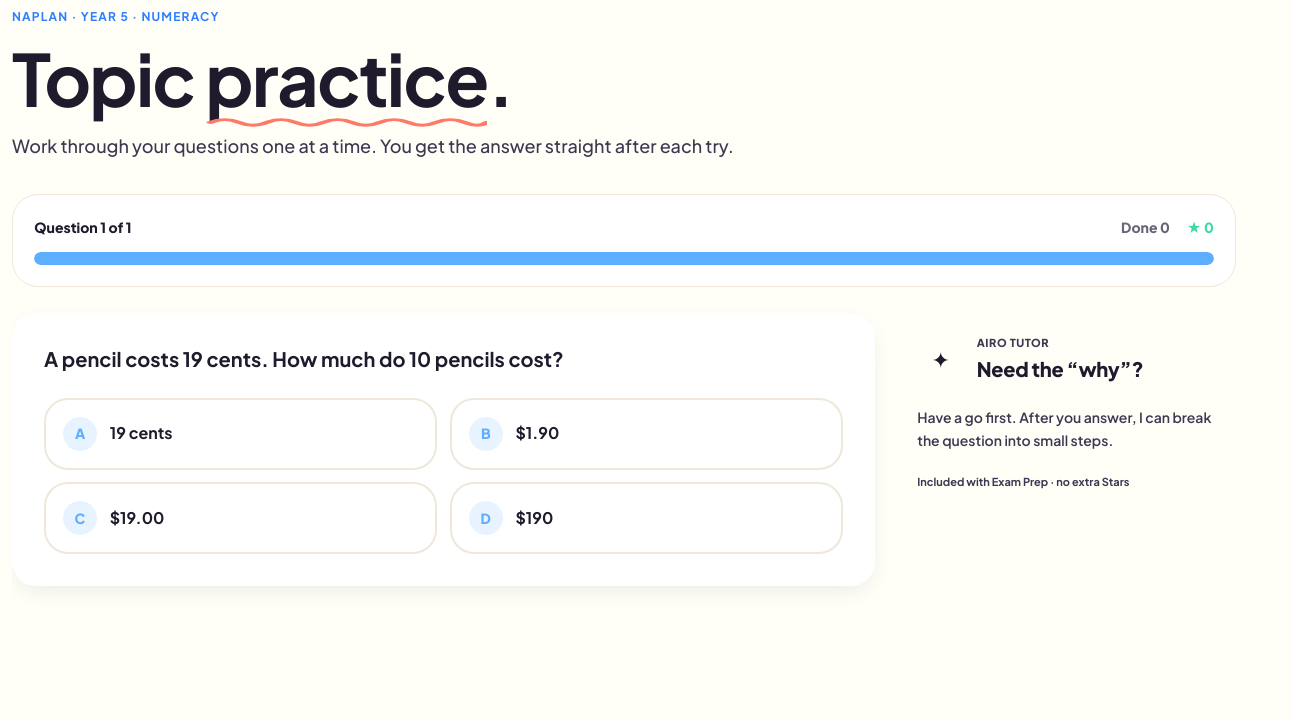
AcademyPracticePage › submits the chosen LETTER and shows feedback with the correct answer
This screenshot has width=1292, height=720.
Step 1. Click the button with test id "academy-option-A" → x=80, y=434, box [44, 398, 437, 470]
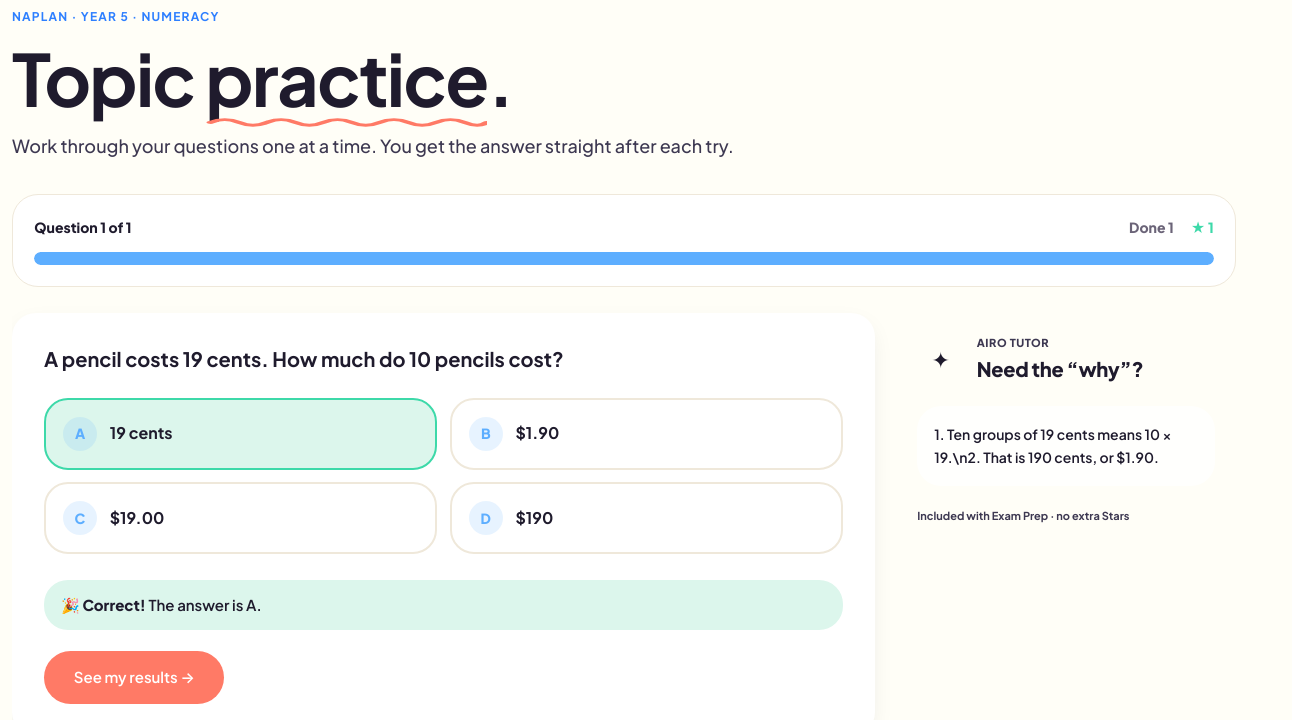
Now the element with test id "academy-feedback" shows "Correct!", box [61, 595, 146, 614]
Now the element with test id "academy-feedback" shows "The answer is A", box [44, 580, 843, 704]
